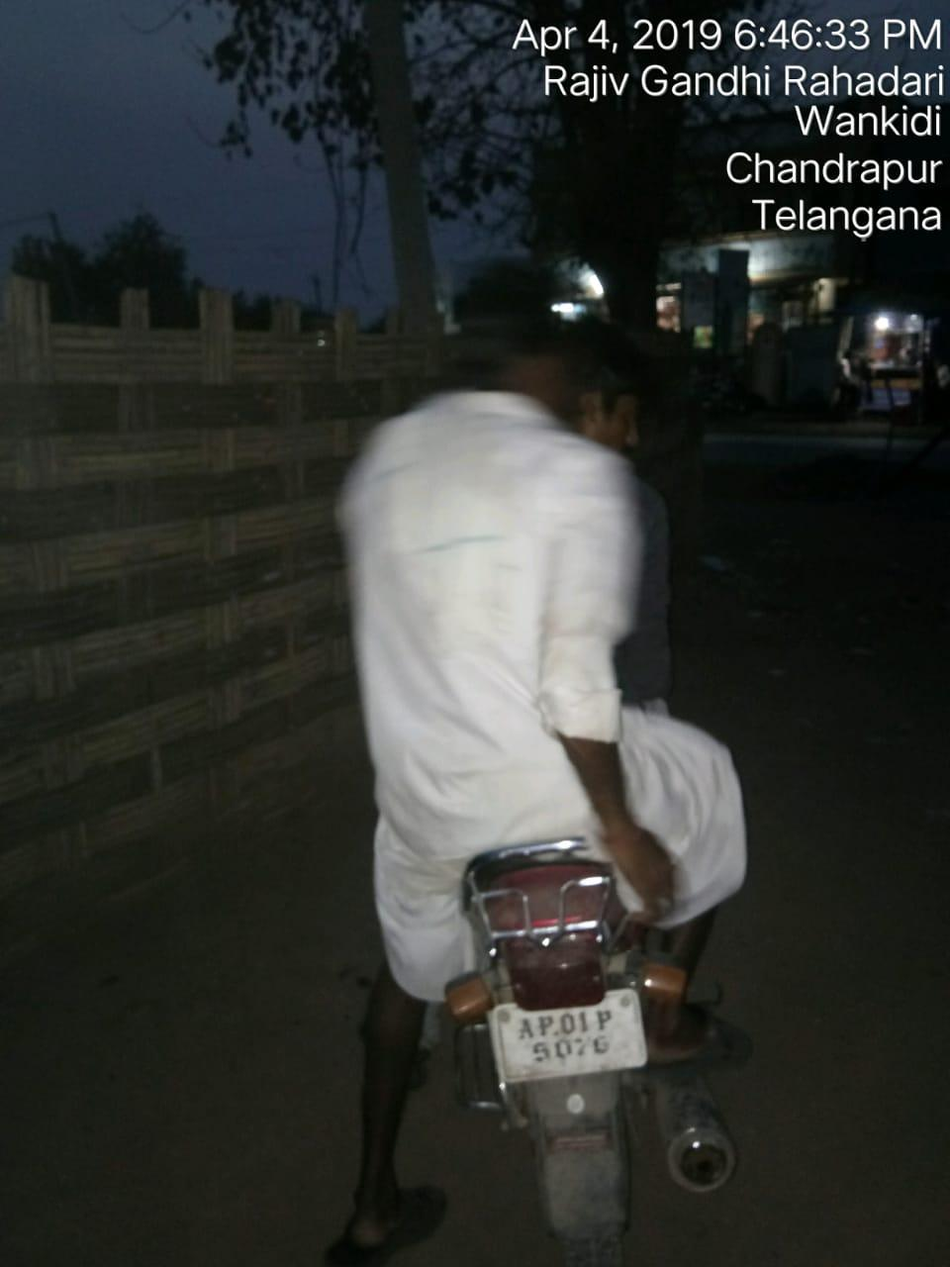plate: (466, 967, 685, 1114)
